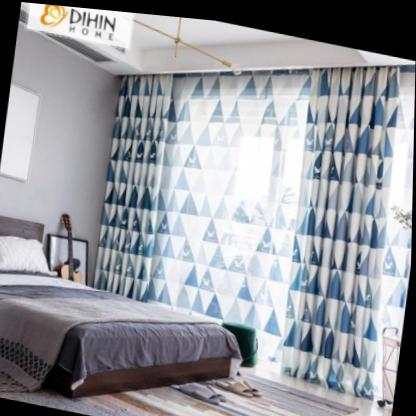Curtains: (94, 56, 416, 397)
